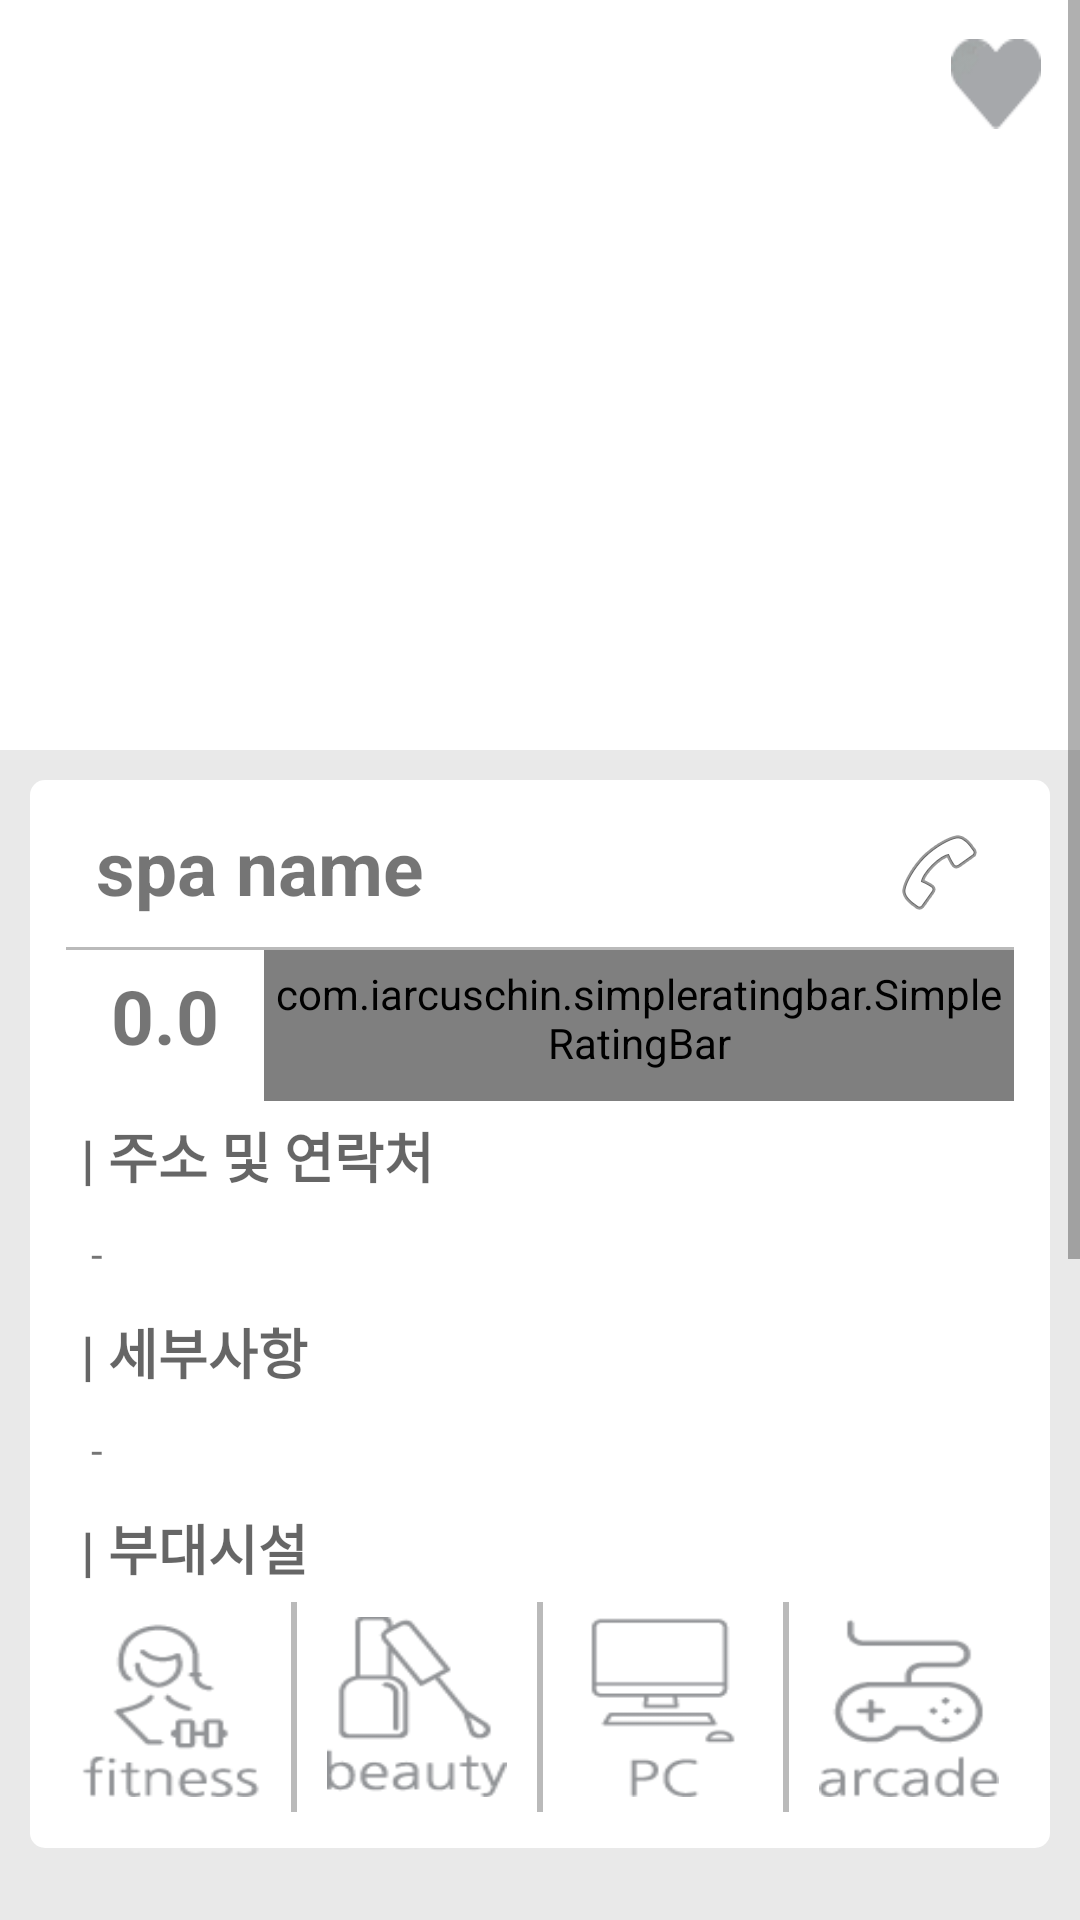

Named icons in this screenshot (1080px x 1920px) and their centers, [x,y]:
call: [939,872]
